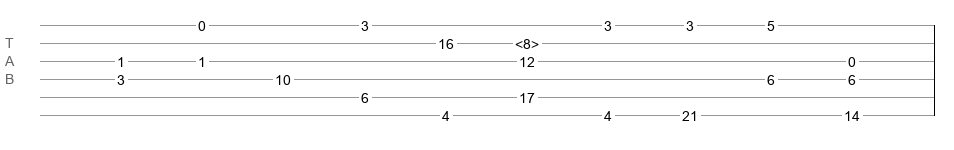0: (198, 18, 206, 28), (848, 54, 856, 64)
1: (117, 54, 125, 64), (198, 54, 206, 64)
10: (275, 72, 291, 82)
12: (519, 54, 535, 64)
14: (844, 108, 860, 118)
16: (438, 36, 454, 46)
17: (519, 90, 535, 100)
21: (682, 108, 698, 118)
3: (117, 72, 125, 82), (361, 18, 369, 28), (604, 18, 612, 28), (686, 18, 694, 28)
4: (442, 108, 450, 118), (604, 108, 612, 118)
5: (767, 18, 775, 28)
6: (361, 90, 369, 100), (767, 72, 775, 82), (848, 72, 856, 82)
harmonic: (515, 36, 539, 46)
